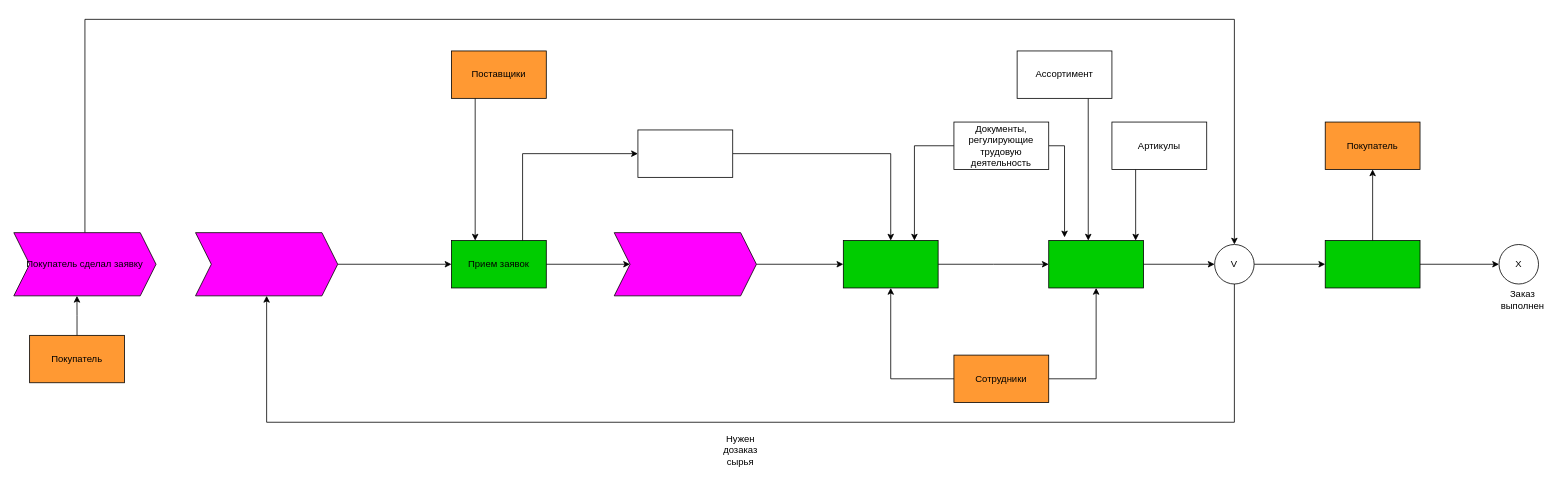
Image size: 1560x480. Some labels were removed from this diagram. The shapes that lost their labels are listed below. From the top down, each one's box as (x1, y1, x2, y2) in pixels, then its label:
(637, 129, 733, 177): Накладная на сырье
(195, 232, 338, 296): Заявки на поставку сырья сформированы
(613, 232, 756, 296): Сырье доставлено
(843, 240, 938, 288): Складирование сырья
(1048, 240, 1144, 288): Изготовление продукции из сырья
(1324, 240, 1420, 288): Отгрузка хлебобулочной продукции покупателю
